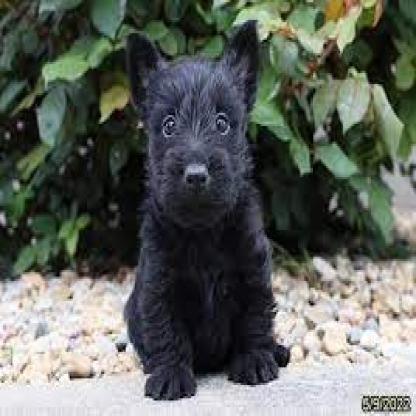Scottish Terrier: (112, 8, 290, 400)
